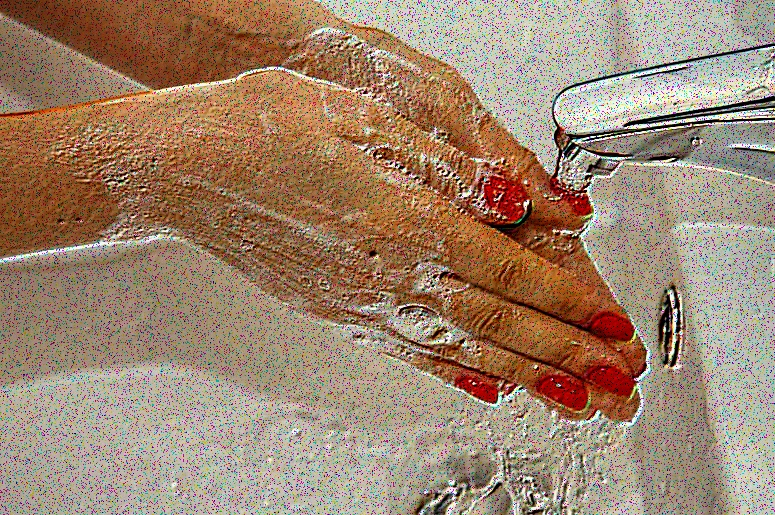washing hand: (146, 41, 721, 451)
